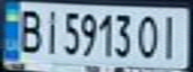1: (96, 10, 115, 57)
3: (112, 10, 136, 60)
5: (57, 8, 81, 56)
9: (78, 9, 100, 57)
B: (12, 6, 45, 54)
I: (157, 11, 187, 61), (39, 6, 60, 55)
O: (133, 11, 163, 60)
